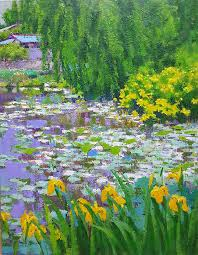flower: (44, 178, 198, 247), (102, 59, 195, 121)
